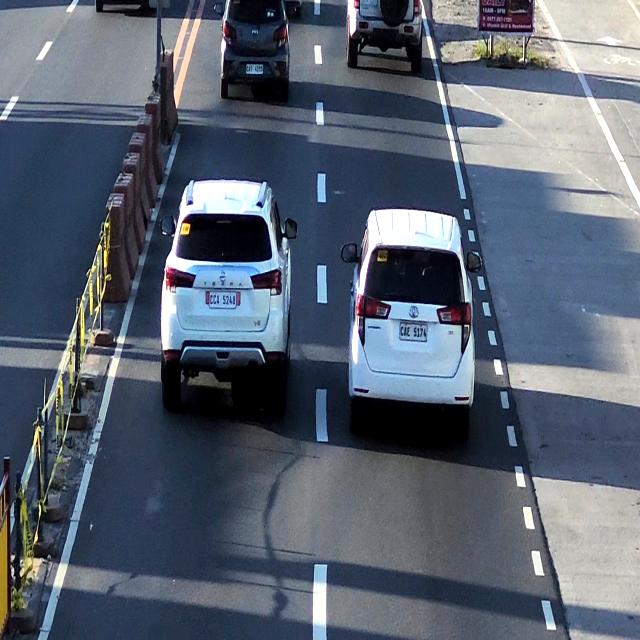Car: (165, 174, 293, 403), (352, 210, 476, 431), (221, 0, 291, 95), (346, 0, 424, 76)
License-Plate: (206, 290, 236, 312), (397, 321, 428, 341), (243, 61, 266, 76)
